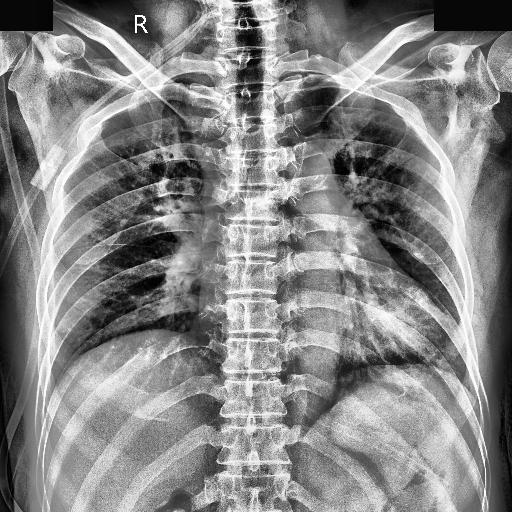0- Aortic enlargement: (269, 146, 336, 224), (265, 134, 329, 194)
3- Cardiomegaly: (196, 285, 458, 373), (198, 264, 442, 358), (200, 288, 450, 364)
